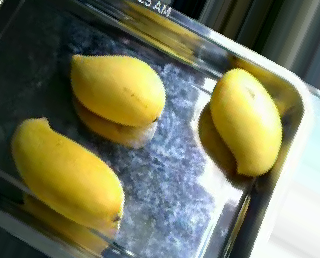Mango: (11, 112, 128, 231), (61, 46, 170, 126), (209, 65, 285, 174)
